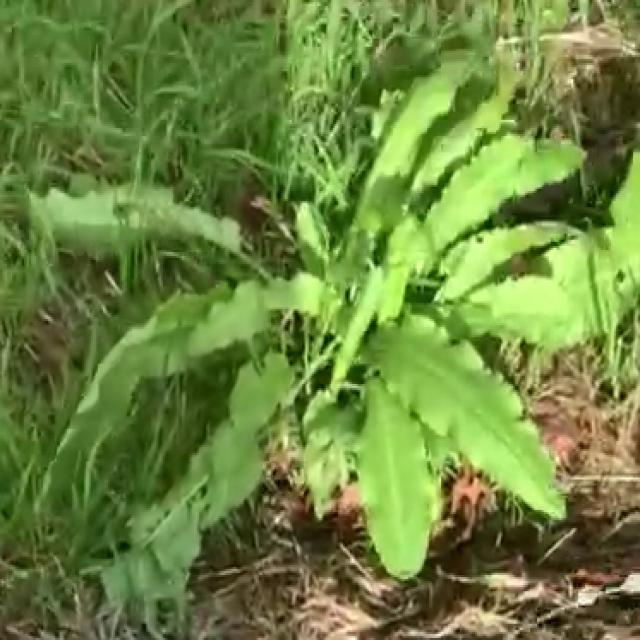organic waste: (48, 57, 640, 609)
